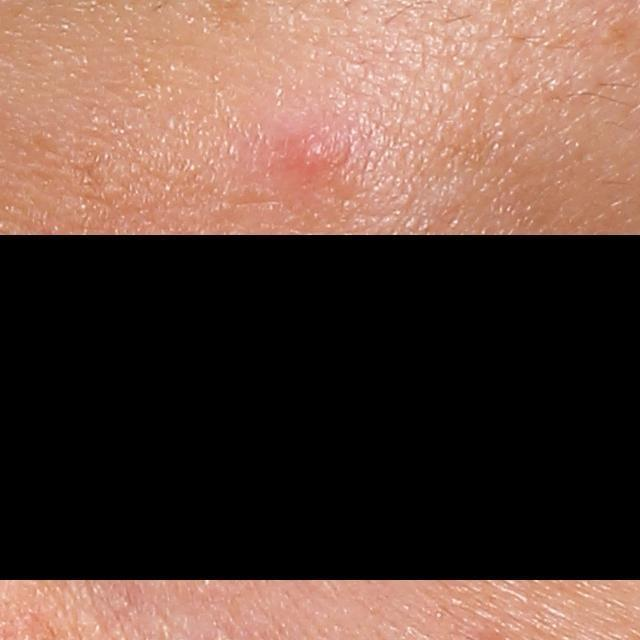papule: (291, 121, 348, 182)
